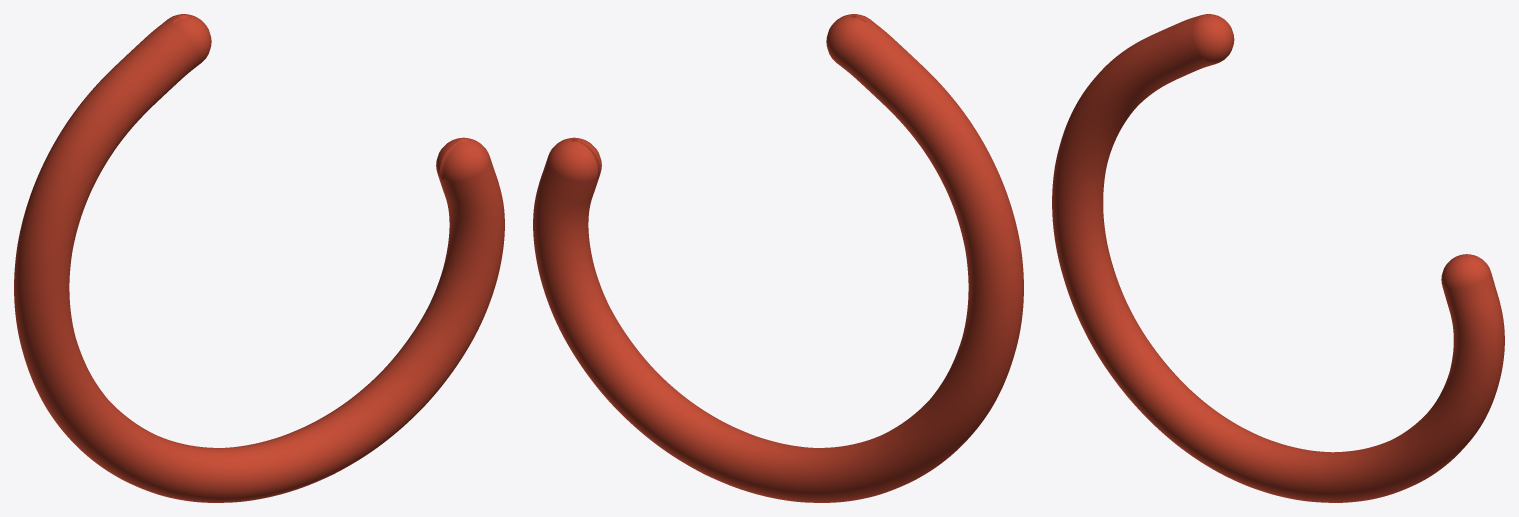
The model's file is cradle-tube.glb.
The picture shows the model from 3 angles, left to right: view 1: azimuth 30°, elevation 25°; view 2: azimuth 150°, elevation 25°; view 3: azimuth 330°, elevation 25°; orthographic projection. The views are drawn at different scales.
Parts seen in each view (by area): view 1: tube, cap-end, cap-start; view 2: tube, cap-end, cap-start; view 3: tube, cap-start, cap-end.
Part boxes in pixels (<box>): tube: <box>14,20,504,502</box>; cap-end: <box>436,137,490,182</box>; cap-start: <box>167,14,211,62</box>; tube: <box>533,20,1023,502</box>; cap-end: <box>547,137,601,182</box>; cap-start: <box>826,14,870,62</box>; tube: <box>1052,16,1504,502</box>; cap-start: <box>1191,14,1234,64</box>; cap-end: <box>1441,254,1491,289</box>.
Bounding box in the file's own units: 0.4342 × 0.4275 × 0.0431.
